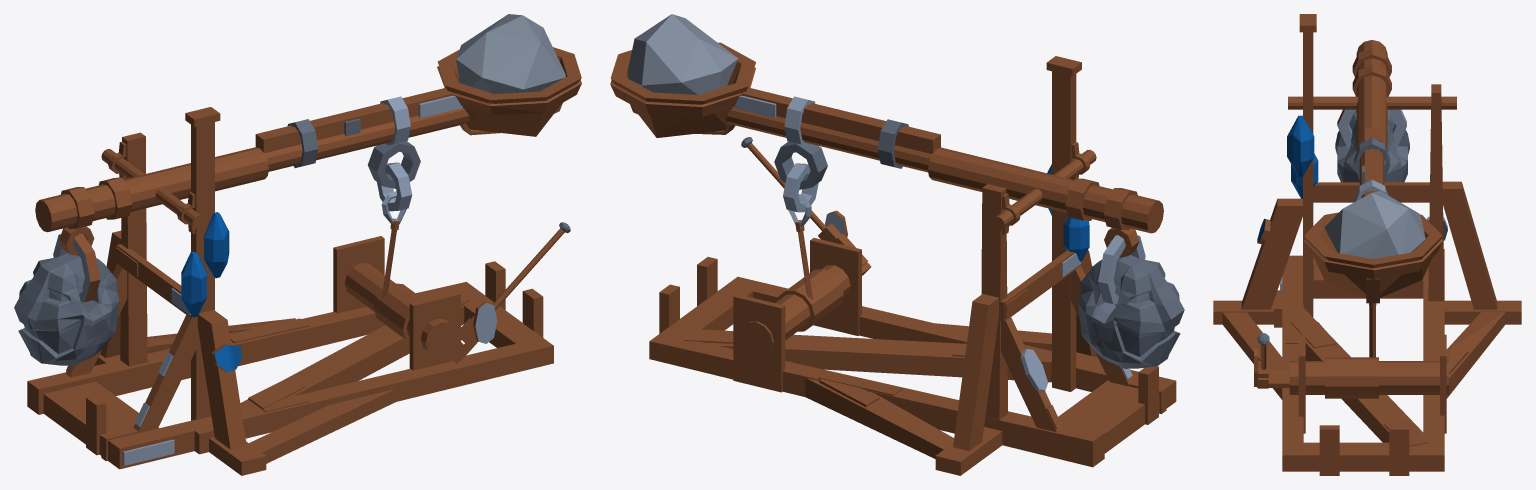
File: Trebuchet Level 2.FBX
3 renders of one model, left to right at view 1: azimuth 30°, elevation 25°; view 2: azimuth 150°, elevation 25°; view 3: azimuth 270°, elevation 25°, orthographic. The views are drawn at different scales.
Visible parts, largest first — view 1: m_Treb; view 2: m_Treb; view 3: m_Treb.
Part boxes in pixels (x1,y1,x2,y2): m_Treb: [14, 14, 581, 475]; m_Treb: [610, 14, 1184, 475]; m_Treb: [1213, 14, 1521, 475].
Size of the model in its own units: 212 by 118 by 110.
1 material, 1 textured.
